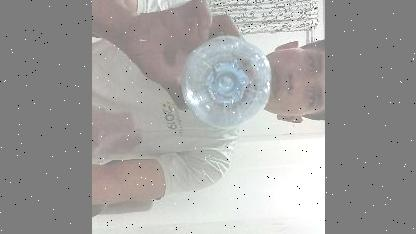Plastic Bottle: (180, 40, 268, 128)
